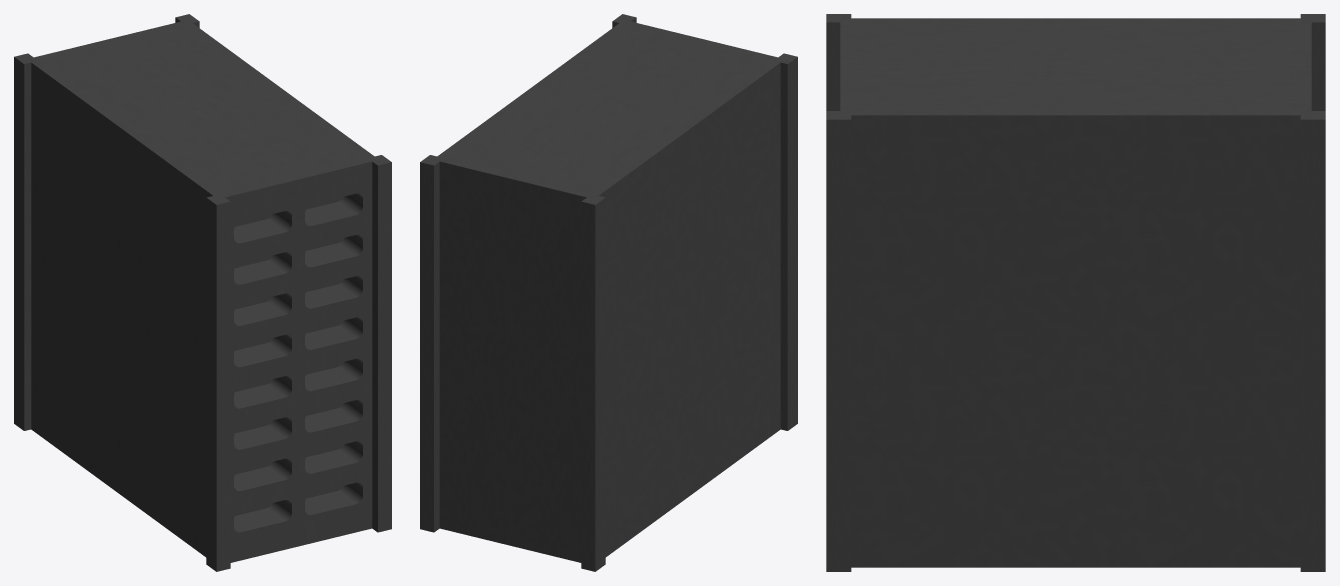
File: WallPiece_02_Mid.fbx
The picture shows the model from 3 angles, left to right: view 1: azimuth 30°, elevation 25°; view 2: azimuth 150°, elevation 25°; view 3: azimuth 270°, elevation 25°; orthographic projection. The views are drawn at different scales.
Visible parts, largest first — view 1: Corridor_WallPiece_02_Mid; view 2: Corridor_WallPiece_02_Mid; view 3: Corridor_WallPiece_02_Mid.
Boxes of the visible parts, x1,y1,x2,y2 form: Corridor_WallPiece_02_Mid: (14,14,391,571); Corridor_WallPiece_02_Mid: (420,14,797,571); Corridor_WallPiece_02_Mid: (826,14,1325,571).
Bounding box in the file's own units: 50 × 100 × 100.
Materials: 1 (1 with a texture image).
